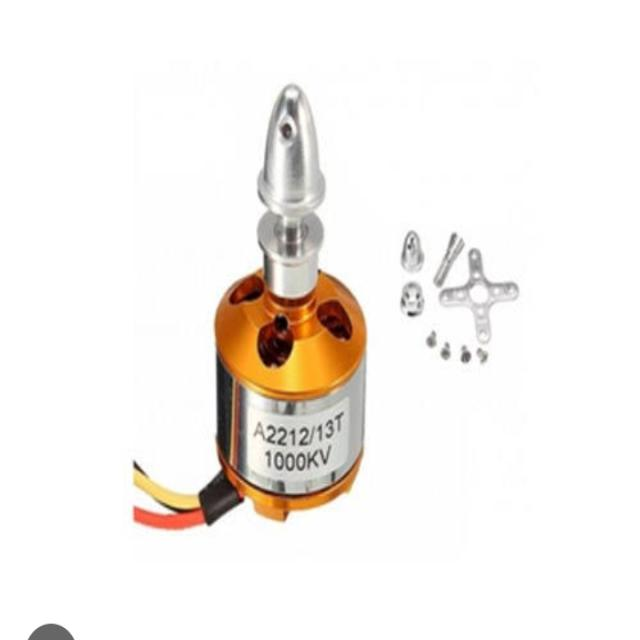motor: (194, 83, 366, 514)
